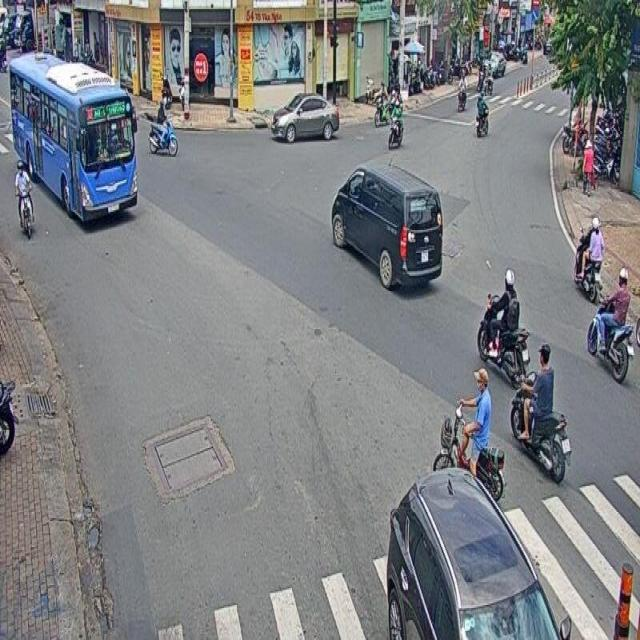bicycle: (428, 362, 507, 500)
bus: (2, 52, 138, 235)
car: (387, 461, 572, 640), (328, 159, 446, 291), (270, 87, 341, 143)
motorcycle: (508, 344, 570, 482), (475, 268, 530, 381), (586, 268, 634, 384), (148, 99, 178, 152), (387, 91, 404, 142)
